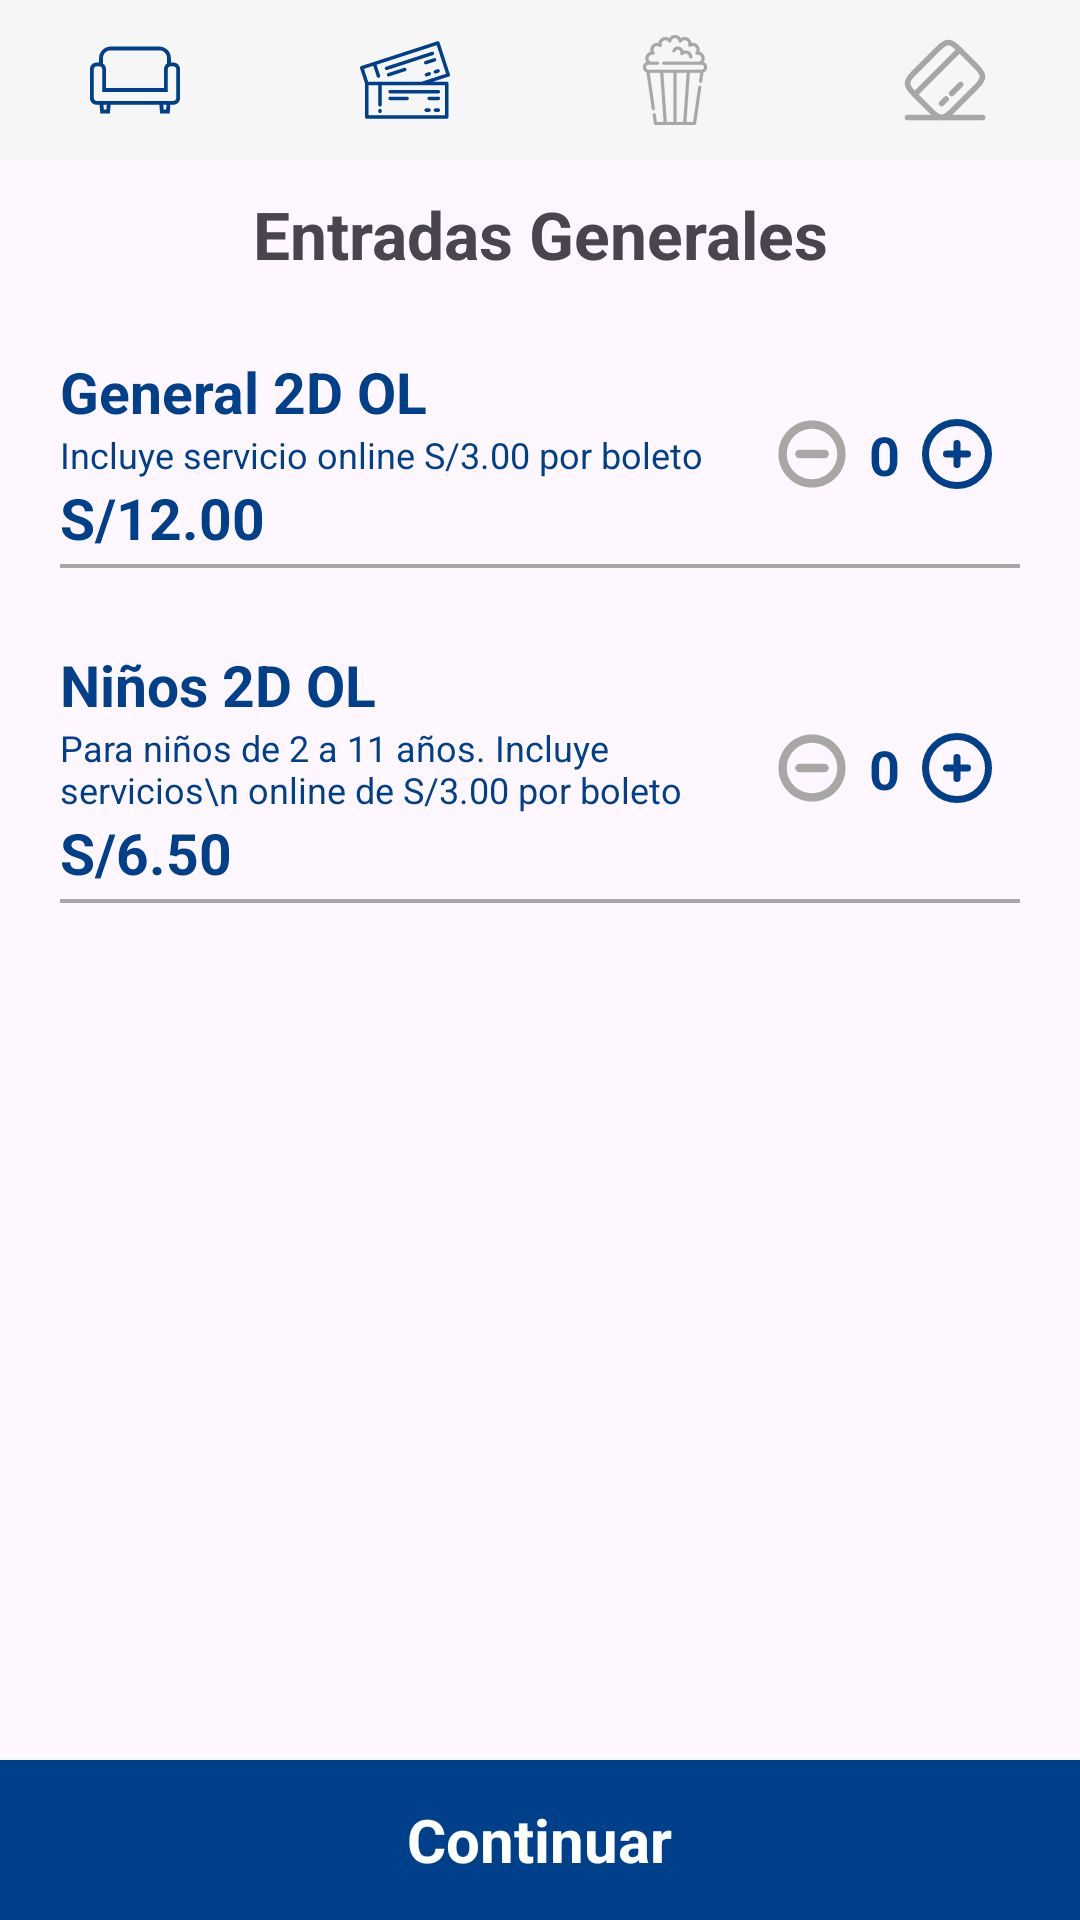

Named icons in this screenshot (1080*1920) and their bounding boxes, BBox(x1, y1, x2, y2):
card: BBox(904, 40, 986, 121)
minor circle: BBox(778, 420, 846, 488), BBox(778, 734, 846, 802)
plus circle: BBox(922, 419, 992, 489), BBox(922, 733, 992, 803)
popcorn: BBox(643, 35, 707, 125)
sofa: BBox(90, 46, 180, 114)
tikctes: BBox(360, 41, 450, 119)
